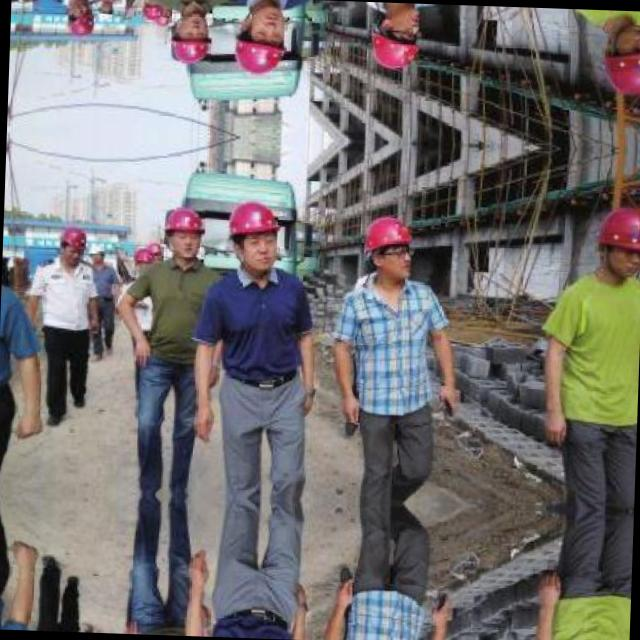helmet: (592, 197, 640, 291), (226, 198, 282, 272), (232, 4, 288, 78), (599, 9, 640, 103), (368, 5, 424, 71), (361, 214, 416, 280), (158, 202, 205, 262), (165, 8, 212, 68), (56, 222, 88, 266), (63, 0, 95, 41), (128, 243, 153, 273), (136, 0, 161, 24), (87, 240, 108, 267), (95, 0, 116, 24)
